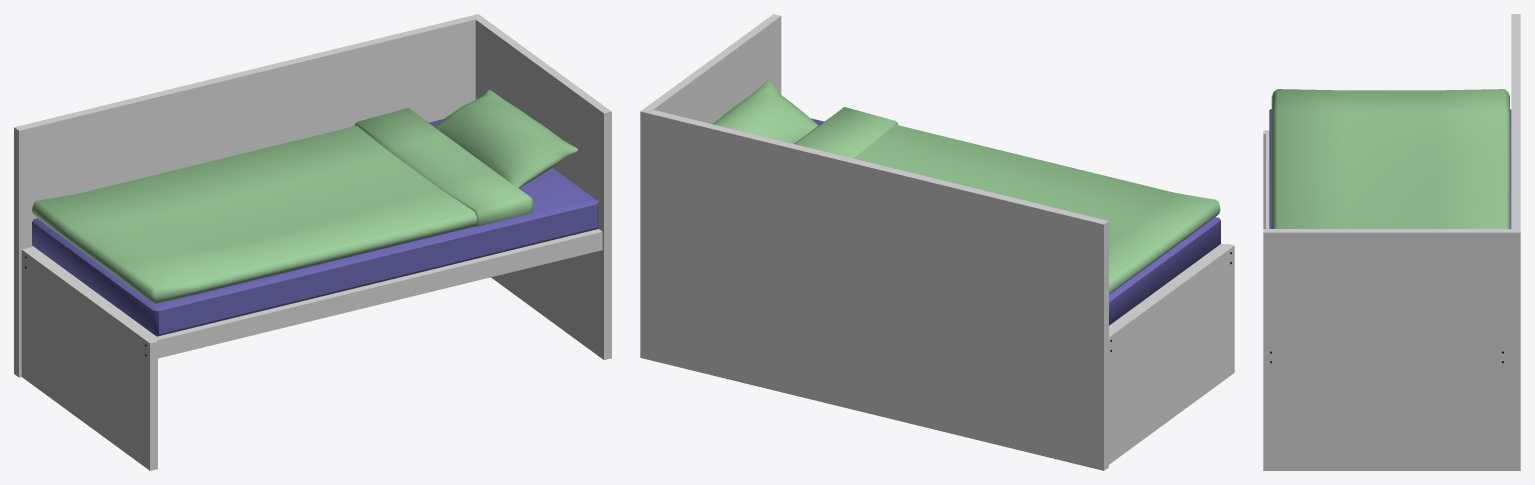
File: OddaBedFrameWithHeadBoard.FBX
3 views of the same model, side by side, from view 1: azimuth 30°, elevation 25°; view 2: azimuth 150°, elevation 25°; view 3: azimuth 270°, elevation 25° (orthographic). The views are drawn at different scales.
Visible parts, largest first — view 1: OddaBedFrameWithHeadBoard; view 2: OddaBedFrameWithHeadBoard; view 3: OddaBedFrameWithHeadBoard.
Part boxes in pixels (box(x1,y1,x2,y2)): OddaBedFrameWithHeadBoard: box(14, 14, 611, 470); OddaBedFrameWithHeadBoard: box(640, 14, 1234, 470); OddaBedFrameWithHeadBoard: box(1263, 14, 1520, 470).
Size of the model in its own units: 197 by 98 by 100.
